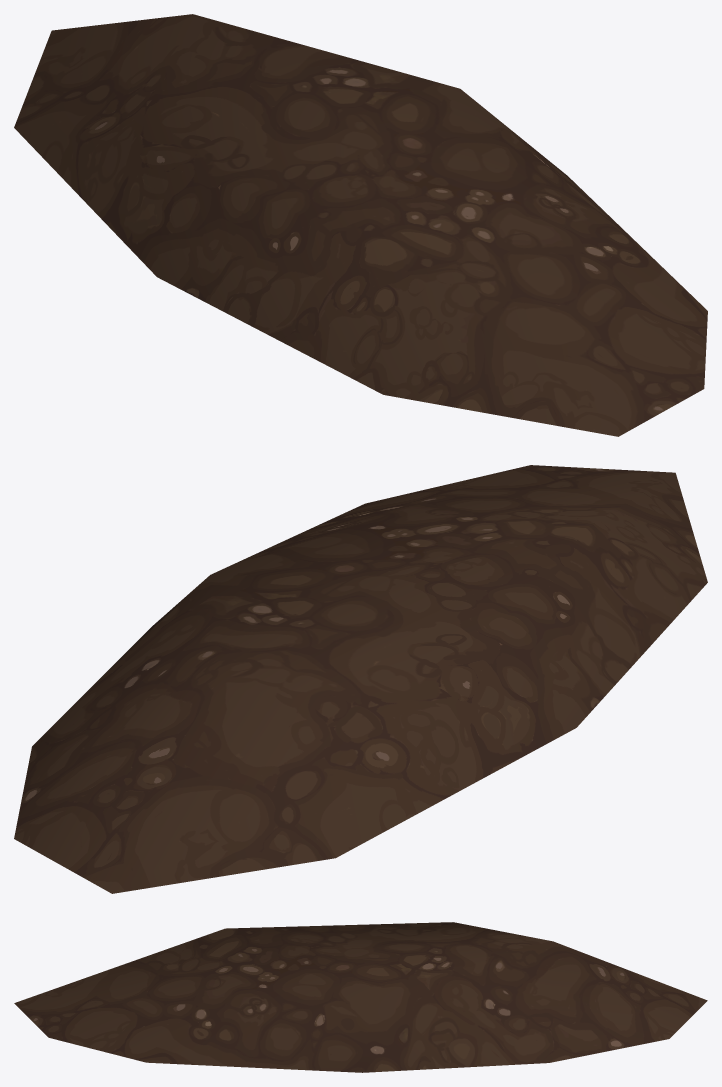
File: SM_PROP_dirtpile_dungeon_02.fbx
3 views of the same model, one above another, from view 1: azimuth 30°, elevation 25°; view 2: azimuth 150°, elevation 25°; view 3: azimuth 270°, elevation 25° (orthographic). The views are drawn at different scales.
Visible parts, largest first — view 1: SM_PROP_dirtpile_dungeon_02; view 2: SM_PROP_dirtpile_dungeon_02; view 3: SM_PROP_dirtpile_dungeon_02.
Part boxes in pixels (x1=…): SM_PROP_dirtpile_dungeon_02: x1=14, y1=14, x2=707, y2=436; SM_PROP_dirtpile_dungeon_02: x1=14, y1=465, x2=707, y2=893; SM_PROP_dirtpile_dungeon_02: x1=14, y1=922, x2=707, y2=1072.
Size of the model in its own units: 99.98 by 23.98 by 235.
